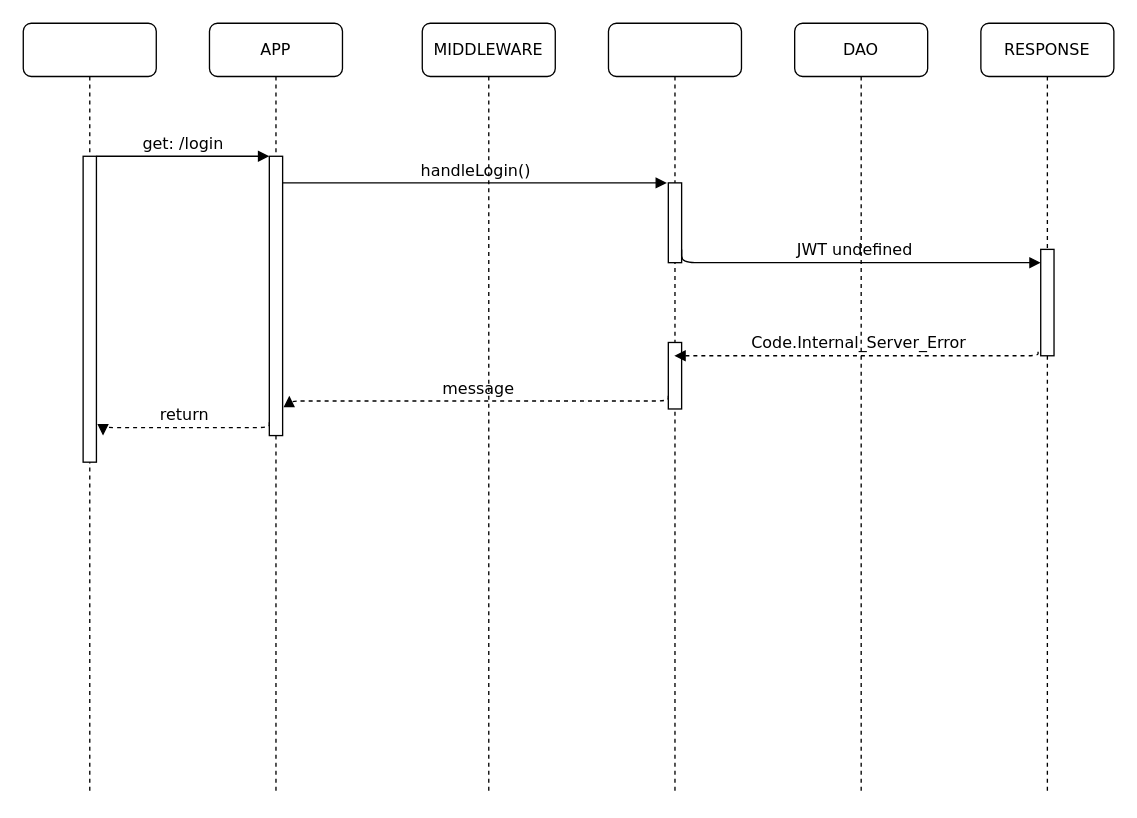
The diagram is 1137 pixels wide and 818 high, and some of its shapes have lost their labels. The box of each missing label's shape, as (x1, y1, x2, y2) in pixels:
CLIENT: (22, 22, 156, 795)
CONTROLLER: (607, 22, 741, 795)
